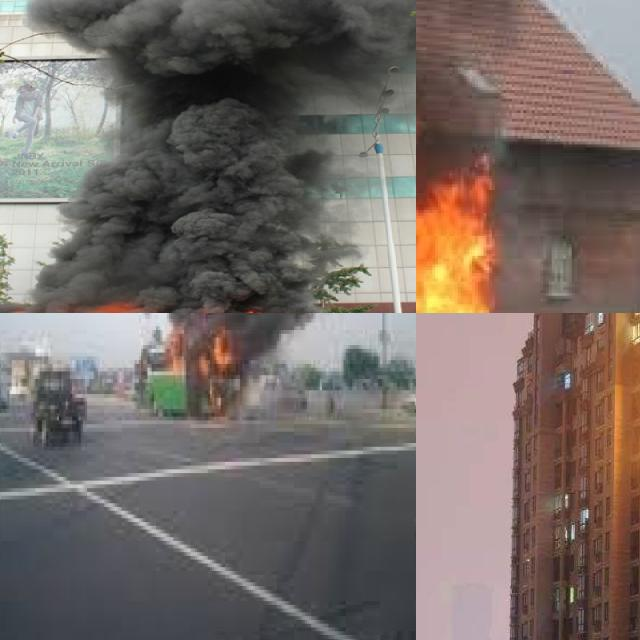fire: (416, 135, 532, 313), (139, 313, 251, 379)
smoke: (21, 0, 416, 303), (416, 0, 526, 207)
